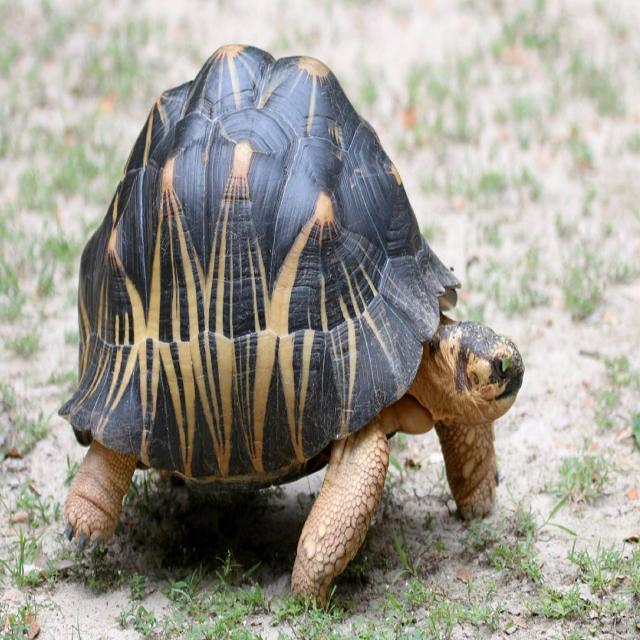Turtle: (68, 24, 524, 617)
